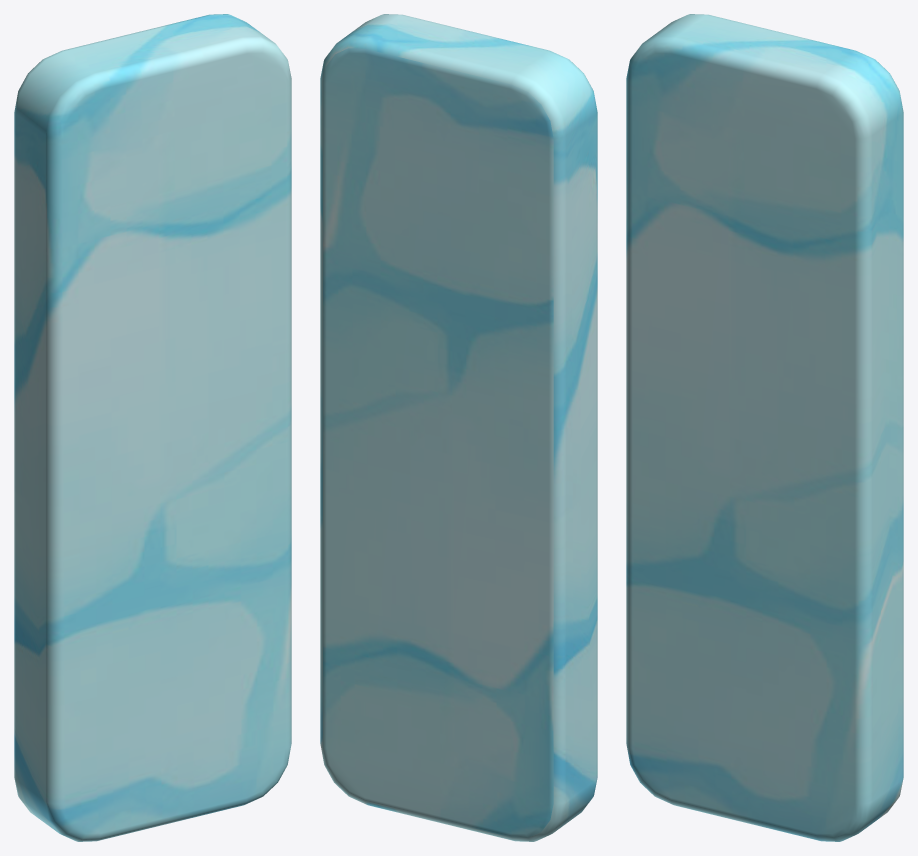
Rendered from Ice_ThreeShape.fbx.
3 renders of one model, left to right at view 1: azimuth 30°, elevation 25°; view 2: azimuth 150°, elevation 25°; view 3: azimuth 330°, elevation 25°, orthographic.
Parts seen in each view (by area): view 1: Ice_ThreeShape; view 2: Ice_ThreeShape; view 3: Ice_ThreeShape.
Boxes of the visible parts, left/top/right/bottom form: Ice_ThreeShape: left=14, top=14, right=291, bottom=841; Ice_ThreeShape: left=320, top=14, right=597, bottom=841; Ice_ThreeShape: left=626, top=14, right=903, bottom=841.
Bounding box in the file's own units: 1 × 3 × 0.3.
Materials: 1 (1 with a texture image).
